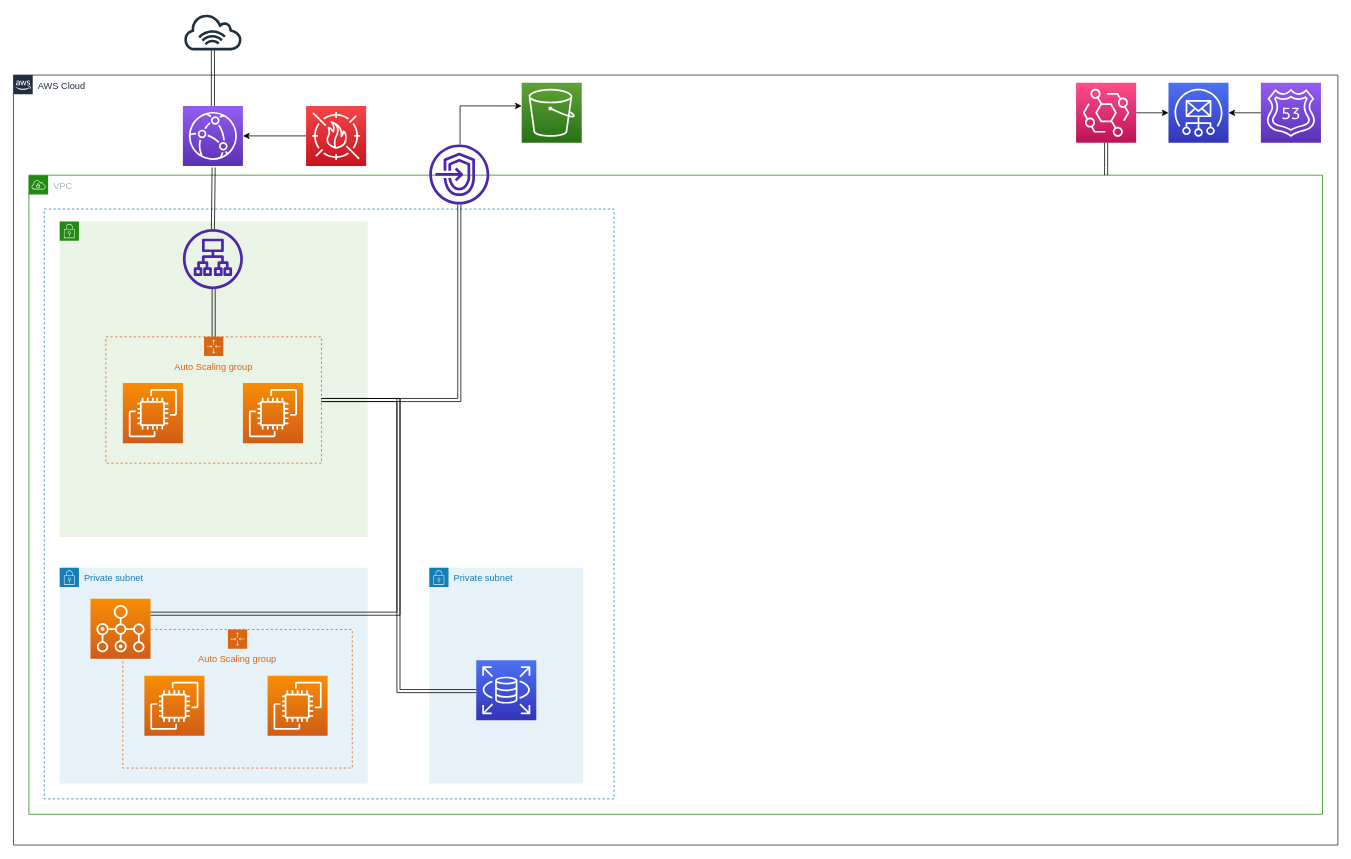
The diagram is 1351 pixels wide and 859 high, and some of its shapes have lost their labels. Each missing label, with the box of its shape:
Availability Zone: (44, 208, 614, 799)
Public subnet: (59, 221, 368, 537)
